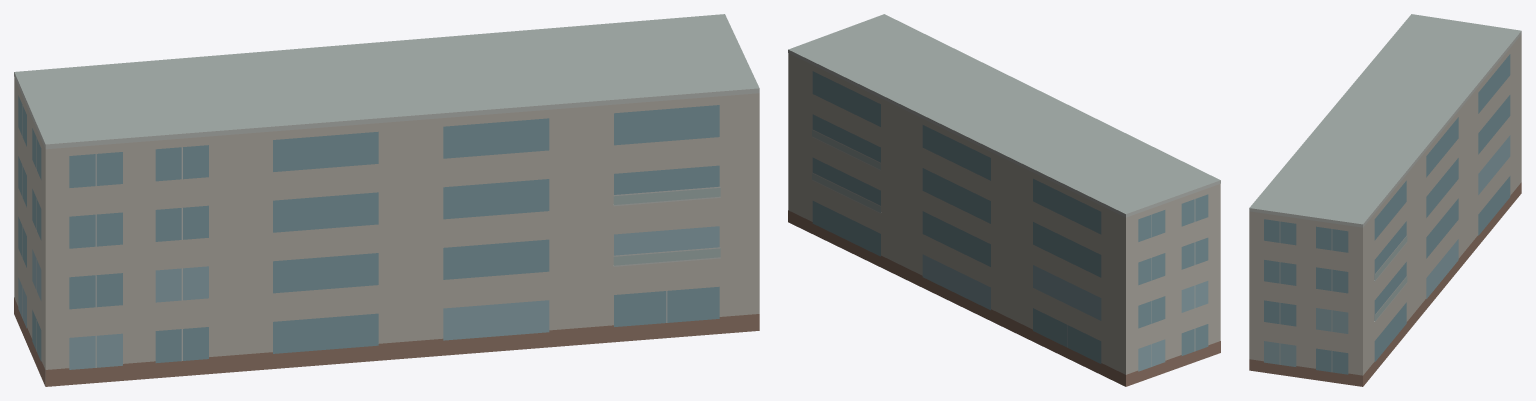
Rendered from survey-upis-32889786.glb.
3 renders of one model, left to right at view 1: azimuth 30°, elevation 25°; view 2: azimuth 150°, elevation 25°; view 3: azimuth 270°, elevation 25°, orthographic. The views are drawn at different scales.
Parts seen in each view (by area): view 1: survey-upis-32889786.tmp; view 2: survey-upis-32889786.tmp; view 3: survey-upis-32889786.tmp.
Boxes of the visible parts, <box> form: survey-upis-32889786.tmp: <box>14,14,759,386</box>; survey-upis-32889786.tmp: <box>788,14,1220,386</box>; survey-upis-32889786.tmp: <box>1249,14,1521,386</box>.
Bounding box in the file's own units: 33.9 × 12.2 × 18.55.
